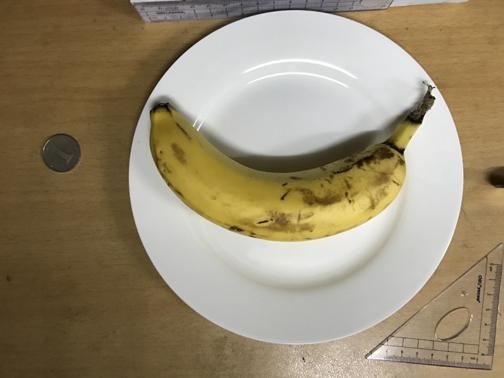banana: (143, 96, 426, 243)
coin: (42, 132, 81, 173)
